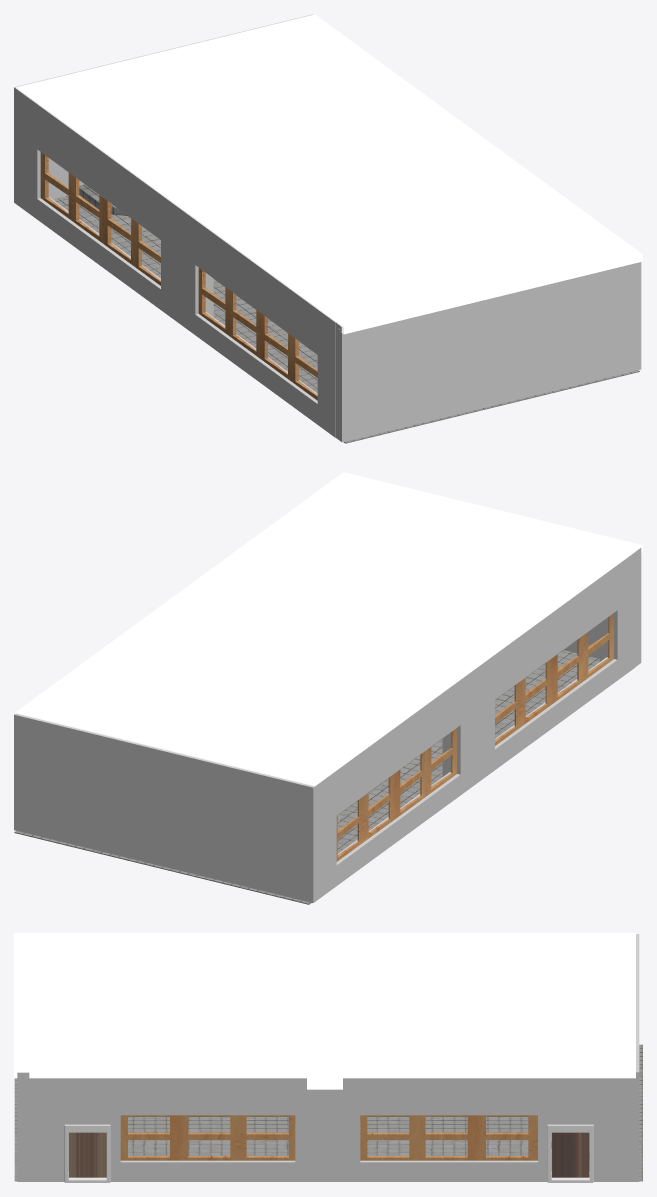
The picture shows the model from 3 angles, top to bottom: view 1: azimuth 30°, elevation 25°; view 2: azimuth 150°, elevation 25°; view 3: azimuth 270°, elevation 25°; orthographic projection. The views are drawn at different scales.
Parts seen in each view (by area): view 1: 房顶, 后面墙体, 左墙体, 窗户框架, 平面, 正面墙体; view 2: 房顶, 正面墙体, 左墙体, 窗户框架, 平面, 后面墙体; view 3: 房顶, 右墙体, 平面, 窗户框架, 正面墙体, 门2, 门1, 后面墙体, 门框2, 门框.1.
Part boxes in pixels (<box>): 房顶: <box>16,14,642,334</box>; 后面墙体: <box>336,262,641,442</box>; 左墙体: <box>20,92,335,437</box>; 窗户框架: <box>40,152,317,400</box>; 平面: <box>55,195,639,443</box>; 正面墙体: <box>14,14,313,206</box>; 房顶: <box>15,472,642,786</box>; 正面墙体: <box>14,713,319,902</box>; 左墙体: <box>319,552,635,898</box>; 窗户框架: <box>336,613,613,861</box>; 平面: <box>14,650,599,904</box>; 后面墙体: <box>564,548,641,666</box>; 房顶: <box>14,933,635,1089</box>; 右墙体: <box>29,1078,627,1181</box>; 平面: <box>14,1044,642,1181</box>; 窗户框架: <box>120,1115,537,1160</box>; 正面墙体: <box>627,934,639,1181</box>; 门2: <box>69,1132,106,1177</box>; 门1: <box>552,1132,589,1177</box>; 后面墙体: <box>17,1072,29,1181</box>; 门框2: <box>547,1124,593,1182</box>; 门框.1: <box>64,1124,110,1182</box>.
Size of what is drawn, in the model's own units: 41.25 by 15.32 by 78.58.
9 materials, 4 textured.
